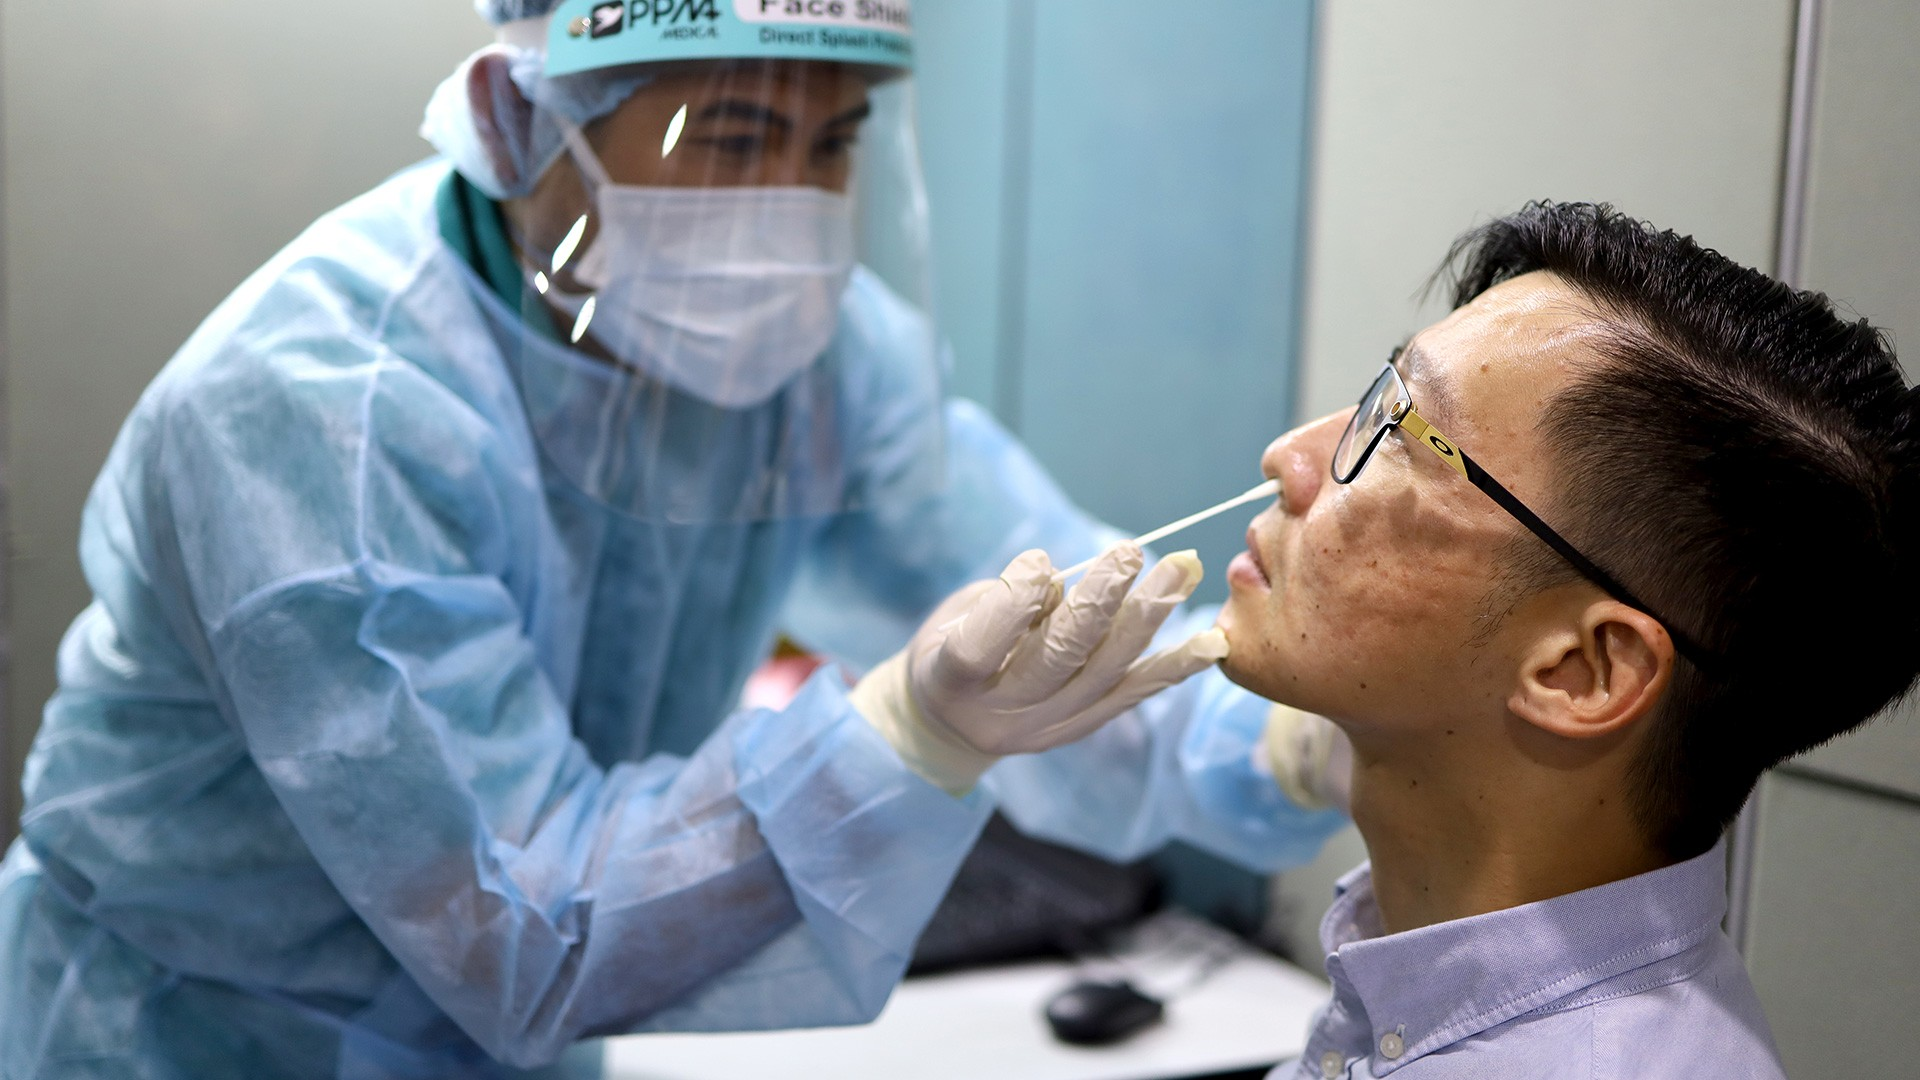Coverall: (1, 154, 976, 1080)
Face_Shield: (524, 1, 962, 527)
Gloves: (856, 529, 1235, 790)
with_mask: (566, 61, 885, 404)
without_mask: (1204, 279, 1568, 748)
